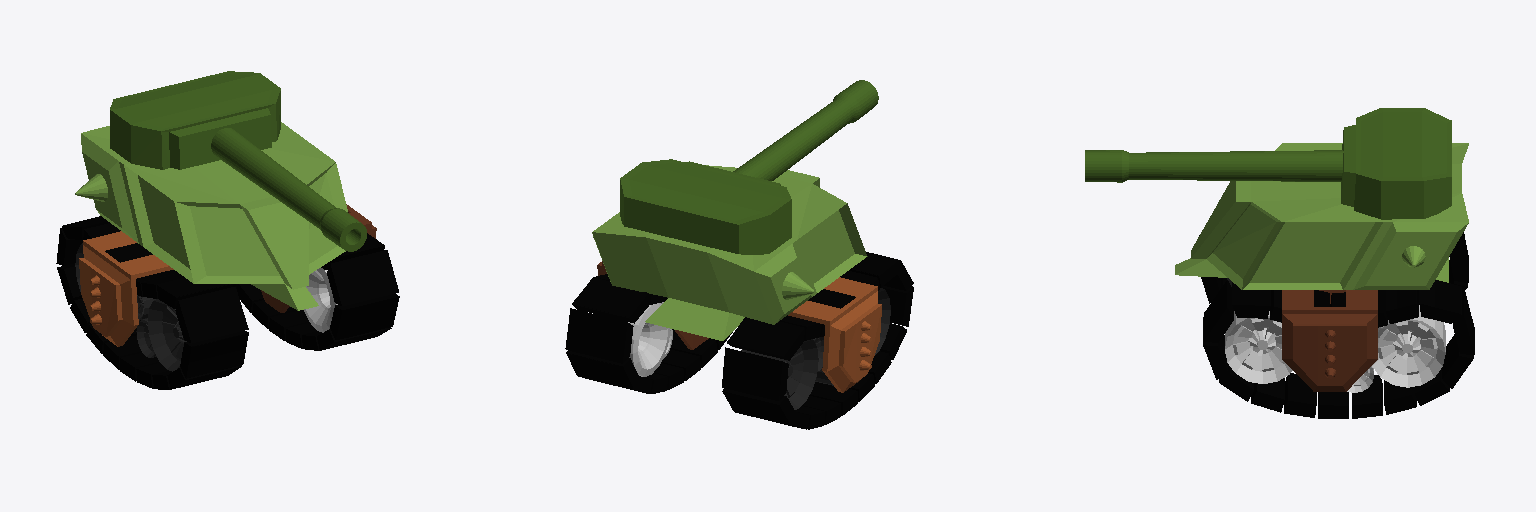
Rendered from tank2.obj.
The picture shows the model from 3 angles: view 1: azimuth 30°, elevation 25°; view 2: azimuth 150°, elevation 25°; view 3: azimuth 270°, elevation 25°; orthographic projection.
Visible parts, largest first — view 1: Cube.003, Cylinder, Cube.005_Cube.006, Cube, Cube.001_Cube.005, Cylinder.002, Cylinder.001, Cube.004; view 2: Cube.003, Cylinder, Cube.005_Cube.006, Cube, Cube.001_Cube.005, Cylinder.002, Cylinder.001; view 3: Cube.003, Cylinder, Cube, Cube.004, Cylinder.001, Cube.005_Cube.006.
Part boxes in pixels (bbox=[...]): Cube.003: bbox=[75, 122, 347, 310]; Cylinder: bbox=[110, 71, 366, 251]; Cube.005_Cube.006: bbox=[56, 216, 248, 389]; Cube: bbox=[233, 233, 399, 350]; Cube.001_Cube.005: bbox=[79, 231, 173, 346]; Cylinder.002: bbox=[75, 243, 186, 371]; Cylinder.001: bbox=[304, 268, 337, 332]; Cube.004: bbox=[261, 204, 376, 312]; Cube.003: bbox=[592, 165, 867, 340]; Cylinder: bbox=[620, 80, 878, 254]; Cube.005_Cube.006: bbox=[722, 252, 913, 429]; Cube: bbox=[565, 274, 732, 393]; Cube.001_Cube.005: bbox=[788, 277, 881, 392]; Cylinder.002: bbox=[741, 288, 890, 409]; Cylinder.001: bbox=[628, 302, 672, 376]; Cube.003: bbox=[1175, 143, 1468, 289]; Cylinder: bbox=[1085, 108, 1451, 219]; Cube: bbox=[1203, 280, 1474, 418]; Cube.004: bbox=[1282, 290, 1377, 391]; Cylinder.001: bbox=[1225, 305, 1445, 392]; Cube.005_Cube.006: bbox=[1199, 232, 1468, 303].
Size of the model in its own units: 5.49 by 4.38 by 6.91.